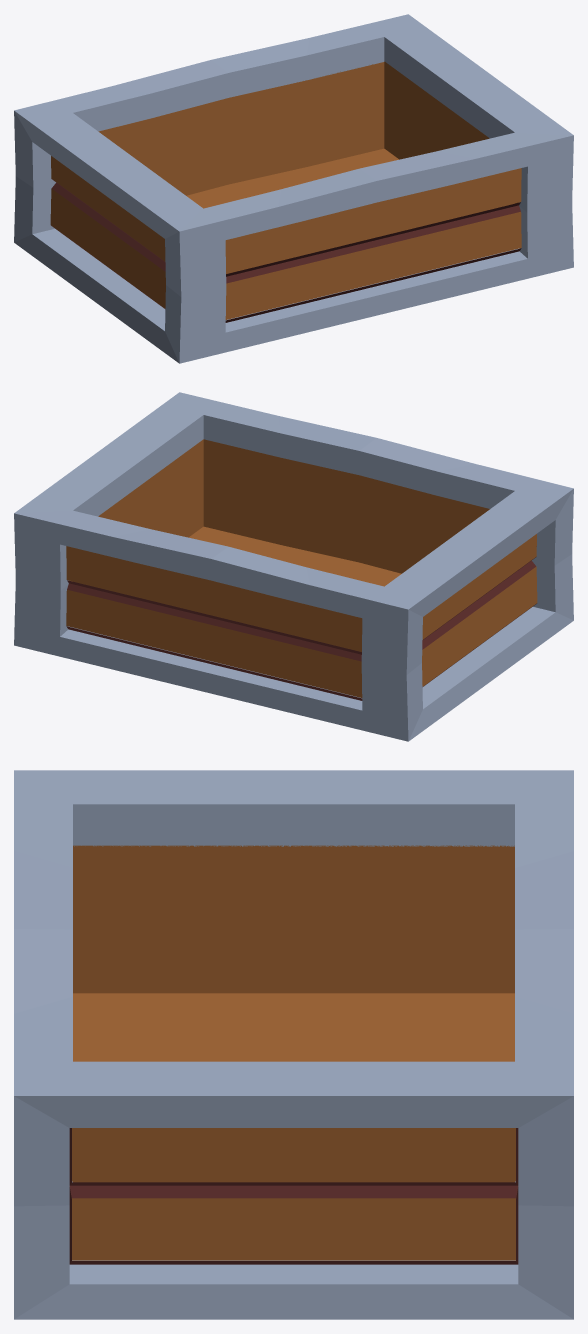
Rendered from chest-bottom.glb.
The picture shows the model from 3 angles, top to bottom: view 1: azimuth 30°, elevation 25°; view 2: azimuth 150°, elevation 25°; view 3: azimuth 270°, elevation 25°; orthographic projection. The views are drawn at different scales.
Parts seen in each view (by area): view 1: chest bottom; view 2: chest bottom; view 3: chest bottom.
Boxes of the visible parts, x1,y1,x2,y2 form: chest bottom: (14, 14, 573, 363); chest bottom: (14, 392, 573, 741); chest bottom: (14, 770, 573, 1319).
Bounding box in the file's own units: 1.69 × 0.55 × 1.23.
